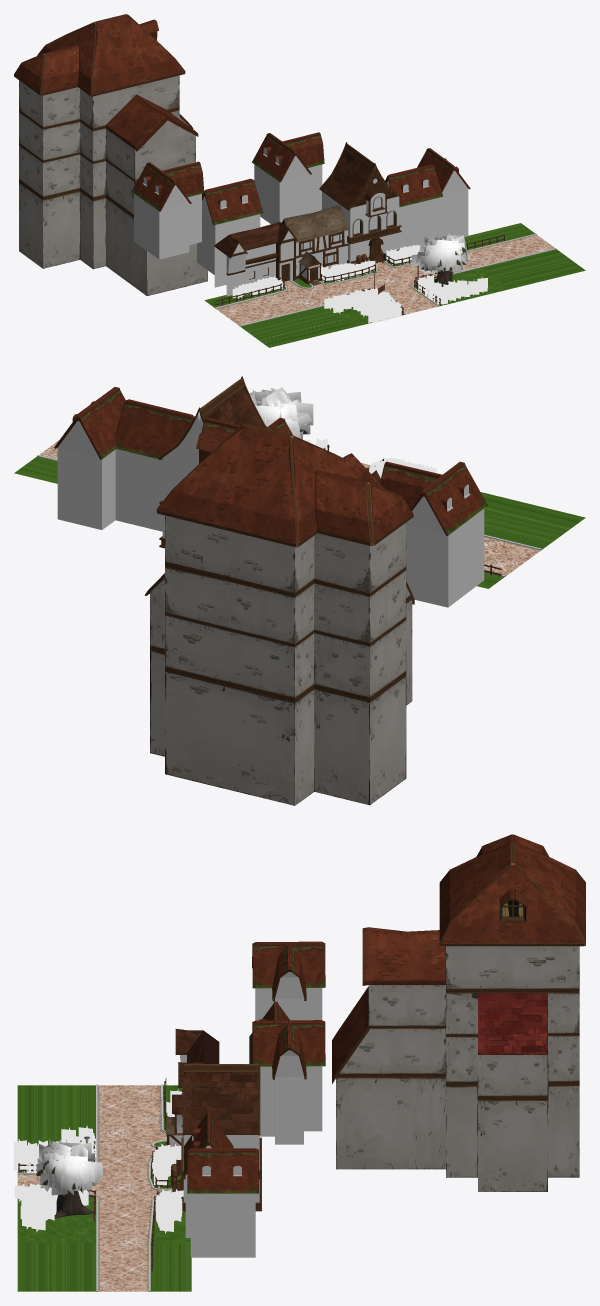
File: dockIntersection.fbx
3 views of the same model, one above another, from view 1: azimuth 30°, elevation 25°; view 2: azimuth 150°, elevation 25°; view 3: azimuth 270°, elevation 25° (orthographic). The views are drawn at different scales.
Parts seen in each view (by area): view 1: Plane, Plane.001, Plane.002; view 2: Plane, Plane.002, Plane.001; view 3: Plane, Plane.001, Plane.002.
Boxes of the visible parts, x1=… form: Plane: x1=14, y1=14, x2=585, y2=347; Plane.001: x1=232, y1=244, x2=487, y2=323; Plane.002: x1=412, y1=233, x2=468, y2=274; Plane: x1=14, y1=376, x2=585, y2=805; Plane.002: x1=249, y1=387, x2=313, y2=439; Plane.001: x1=305, y1=438, x2=436, y2=478; Plane: x1=17, y1=834, x2=585, y2=1291; Plane.001: x1=14, y1=1088, x2=183, y2=1233; Plane.002: x1=36, y1=1138, x2=103, y2=1196.
Bounding box in the file's own units: 7762 × 4404 × 7694.
